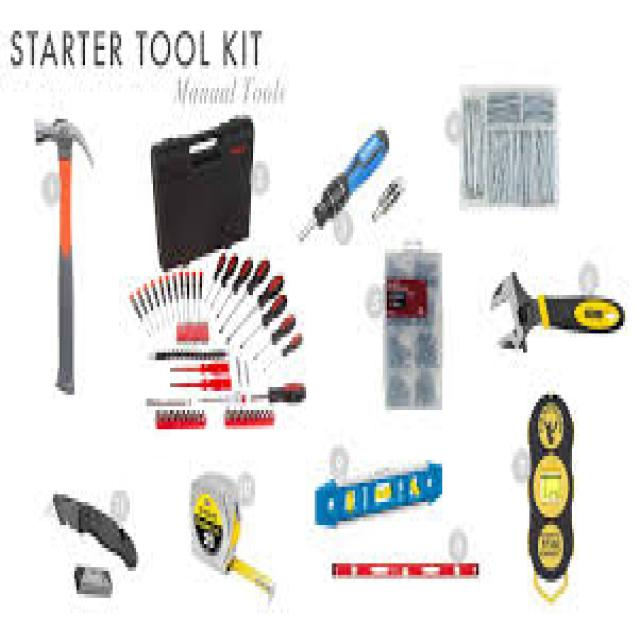wrench: (485, 238, 640, 372)
